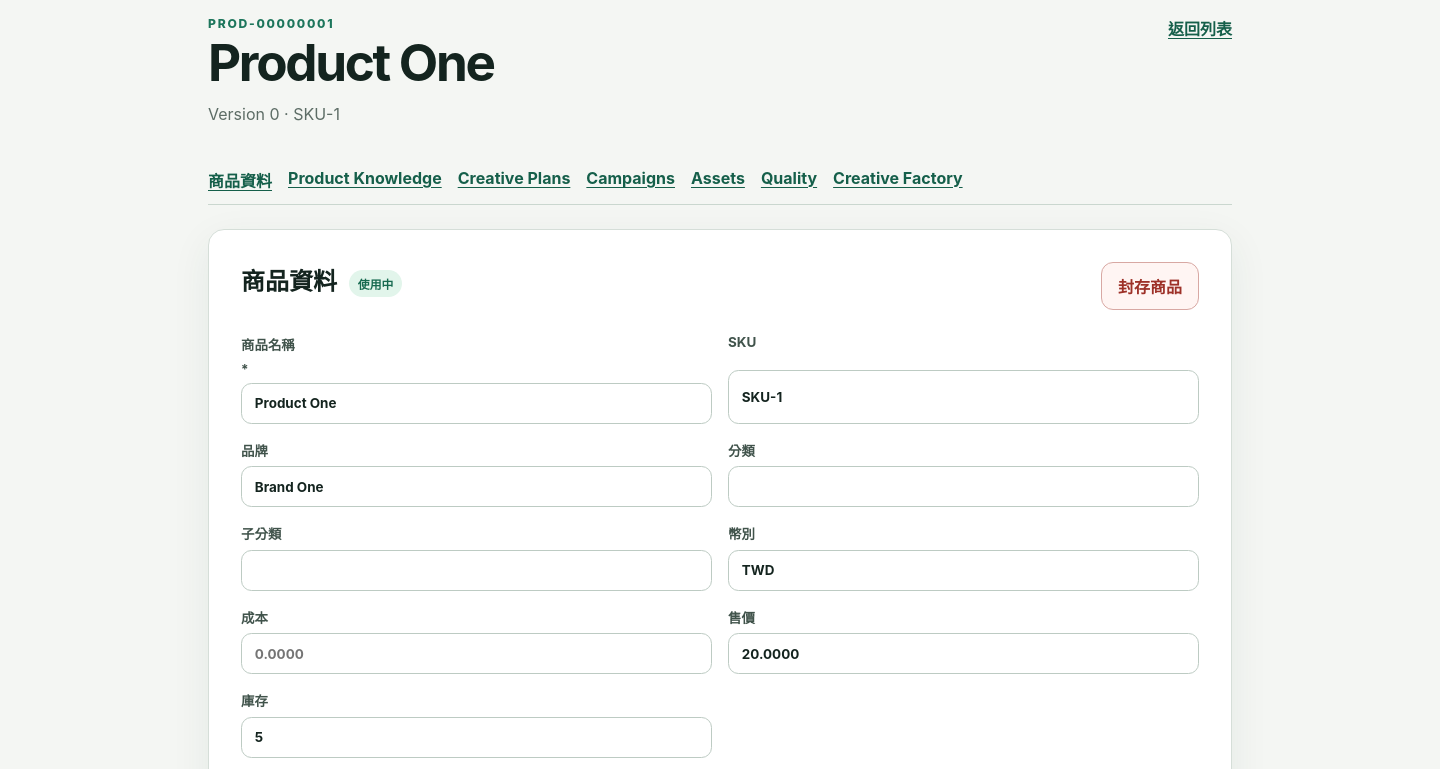
Test: ProductDetailView › shows a reloadable conflict for HTTP 409
Replace the text in the field labelled "品牌" with "Brand Two". click: [476, 487]
box: [241, 466, 712, 507]
(page scrolled)
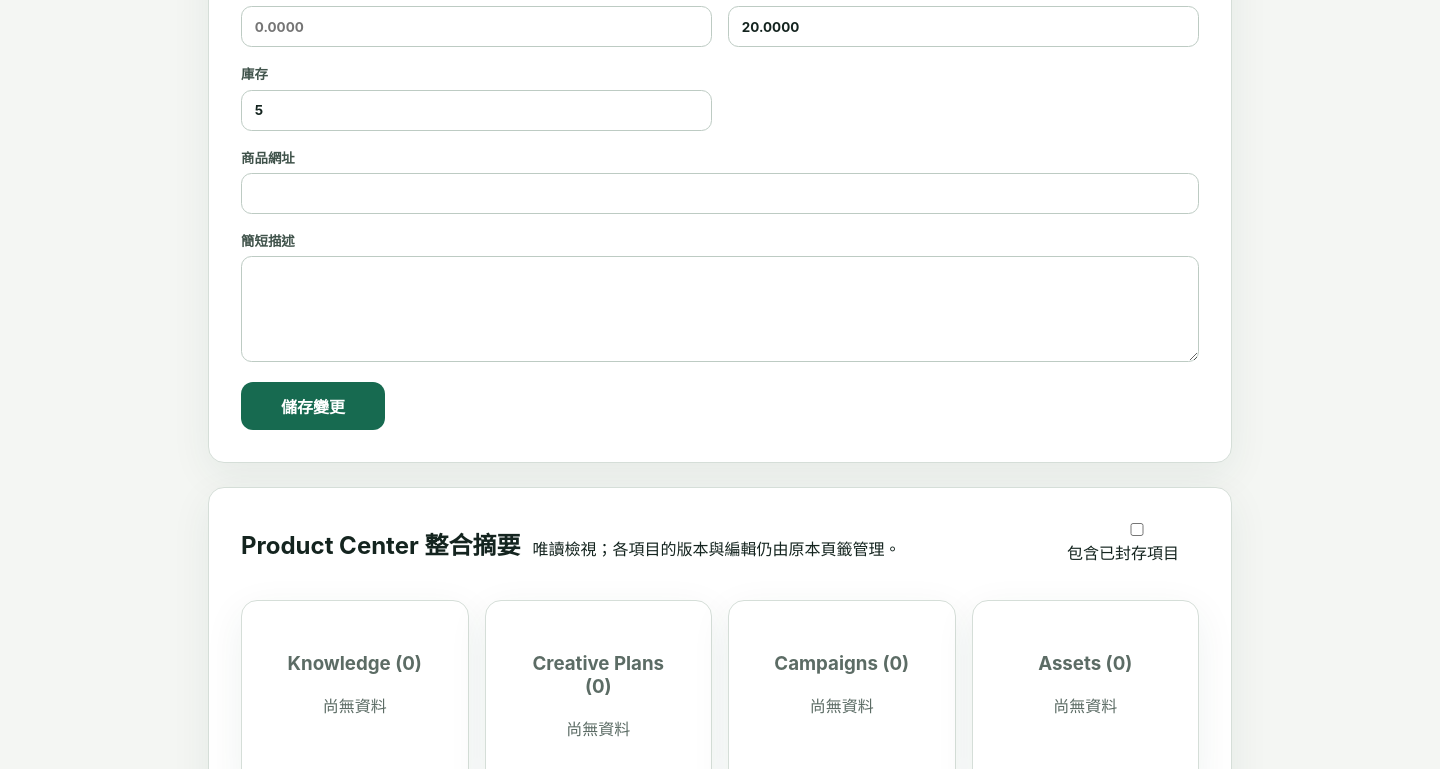
Click the button "儲存變更". click: [313, 406]
box: [241, 382, 385, 430]
(page scrolled)
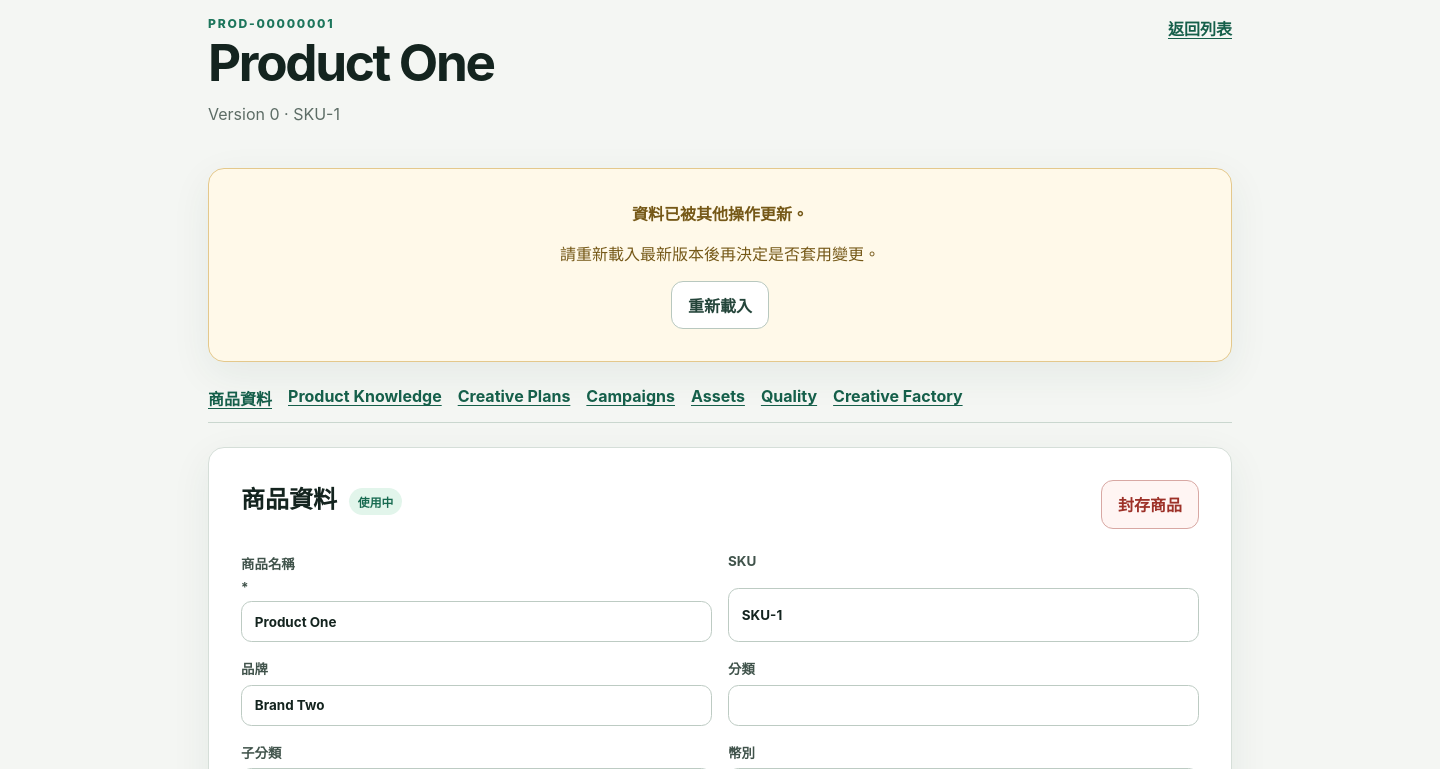
Now the message shows "資料已被其他操作更新", box [632, 204, 808, 224]
